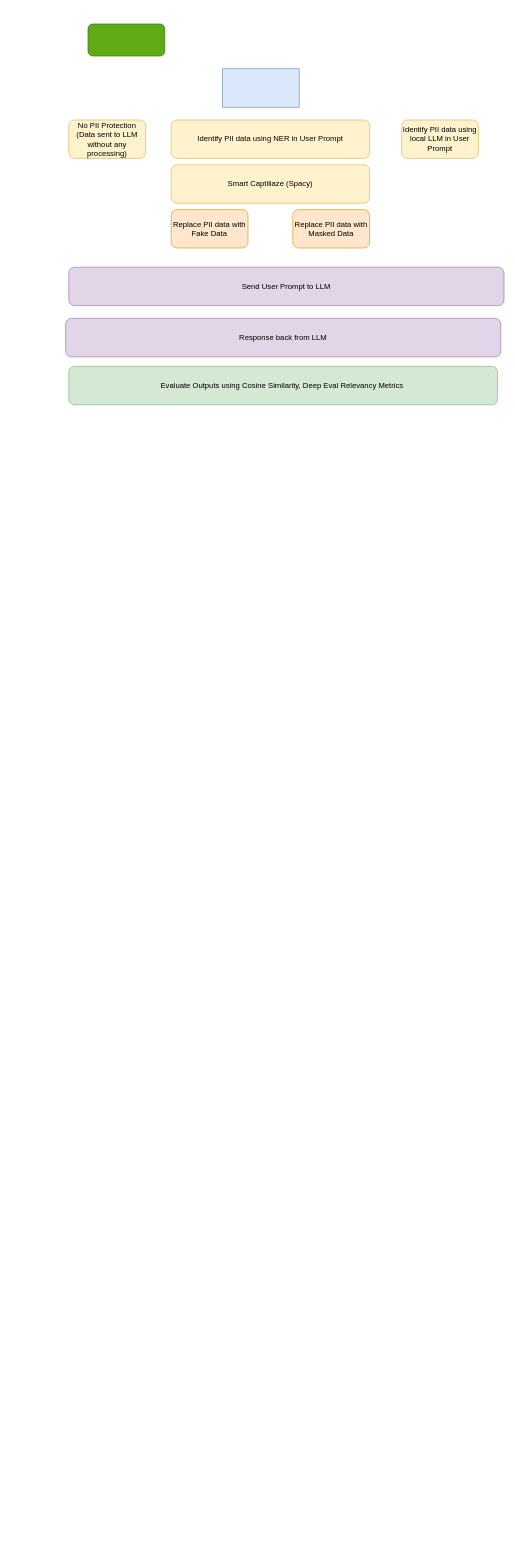
The diagram is 515 pixels wide and 1558 high, and some of its shapes have lost their labels. The box of each missing label's shape, as (x1, y1, x2, y2) in pixels:
Read Hugging Face Dataset: (87, 23, 165, 56)
Read User Prompt: (222, 68, 299, 107)
